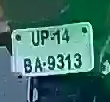1: (64, 52, 73, 70), (54, 27, 62, 46)
3: (72, 49, 84, 69), (55, 52, 66, 72)
4: (61, 26, 72, 44)
9: (46, 54, 56, 72)
A: (33, 57, 43, 74)
B: (22, 56, 33, 76)
P: (40, 30, 48, 49)
U: (31, 29, 40, 47)
